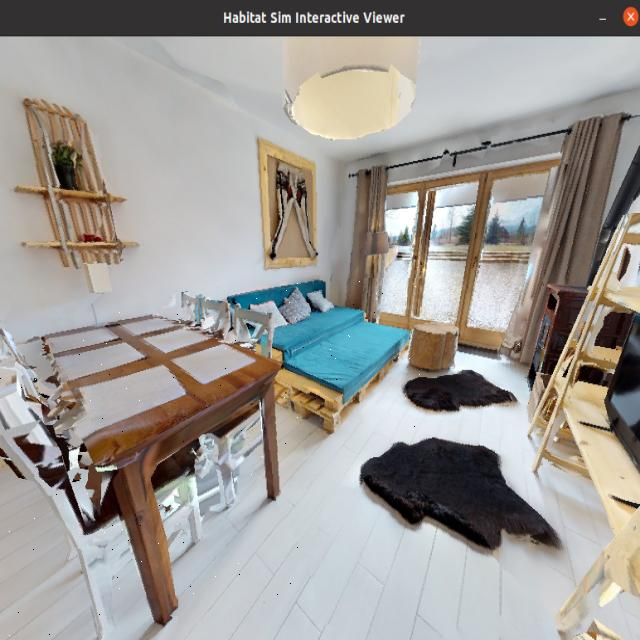chair: (0, 347, 230, 640)
sofa: (219, 278, 422, 429)
table: (19, 303, 320, 636)
